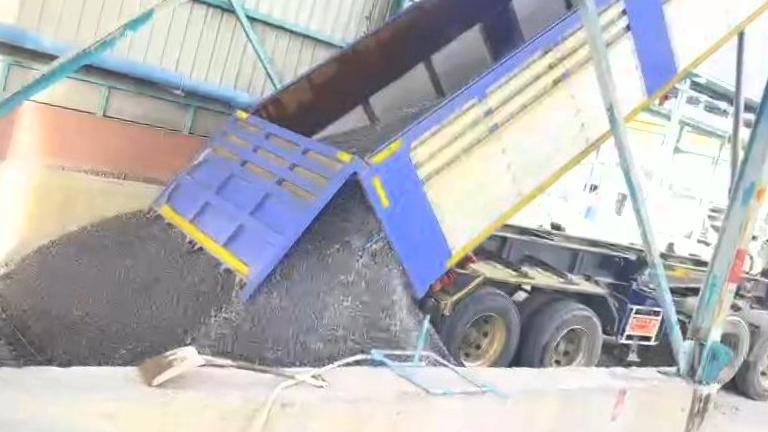gravel: (0, 182, 422, 364), (318, 102, 435, 154)
